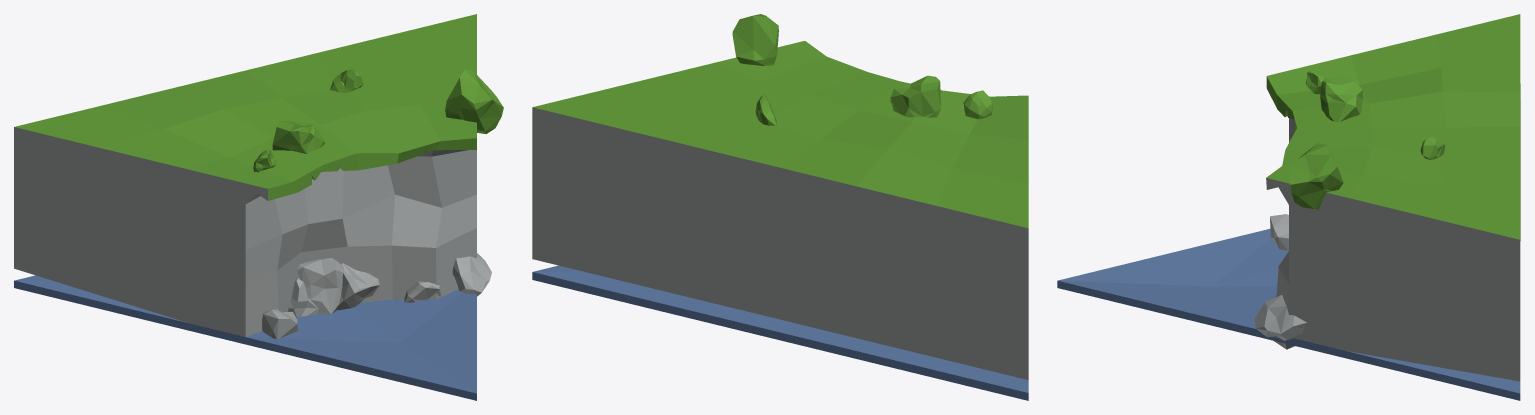
The model's file is tile6.glb.
The picture shows the model from 3 angles, left to right: view 1: azimuth 30°, elevation 25°; view 2: azimuth 150°, elevation 25°; view 3: azimuth 270°, elevation 25°; orthographic projection. The views are drawn at different scales.
Parts seen in each view (by area): view 1: hill.001, water6, bush1.002, rock0.011, bush2.002, rock0.008, rock0.007, rock0.012, rock0.010, bush3.002, rock0.009; view 2: hill.001, water6, bush1.002, bush2.002, bush4.001, bush3.002; view 3: hill.001, water6, bush1.002, bush2.002, rock0.008, rock0.012, bush3.002.
Part boxes in pixels (x1,y1,x2,y2): hill.001: (14, 14, 476, 336); water6: (14, 275, 476, 400); bush1.002: (445, 70, 503, 133); rock0.011: (297, 258, 344, 314); bush2.002: (272, 121, 325, 153); rock0.008: (452, 253, 491, 296); rock0.007: (336, 263, 379, 310); rock0.012: (262, 309, 297, 339); rock0.010: (288, 277, 318, 318); bush3.002: (330, 69, 363, 92); rock0.009: (404, 281, 441, 302); hill.001: (532, 41, 1028, 379); water6: (532, 265, 1028, 400); bush1.002: (732, 14, 778, 65); bush2.002: (890, 75, 940, 117); bush4.001: (963, 90, 992, 119); bush3.002: (755, 94, 776, 125); hill.001: (1266, 14, 1520, 381); water6: (1057, 229, 1520, 400); bush1.002: (1287, 143, 1343, 209); bush2.002: (1320, 76, 1364, 122); rock0.008: (1254, 295, 1306, 349); rock0.012: (1270, 214, 1288, 250); bush3.002: (1420, 137, 1444, 159).
Size of the model in its own units: 1 by 0.4629 by 0.8661.
